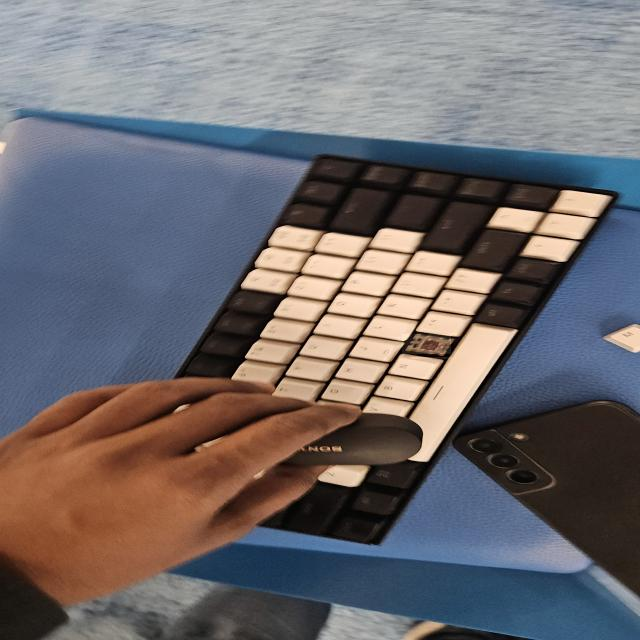C: (411, 334, 452, 359), (404, 336, 452, 357), (402, 334, 451, 354), (409, 339, 454, 356), (416, 336, 447, 358), (418, 336, 451, 356)
